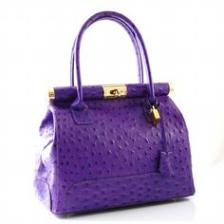purple: (35, 11, 196, 214)
